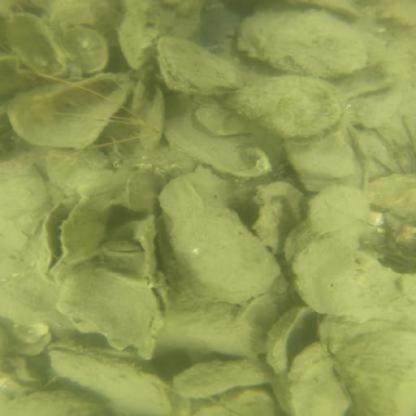3: (41, 199, 114, 281)
Oyster-Closed: (152, 169, 282, 304), (41, 343, 172, 416), (219, 75, 344, 139), (157, 34, 243, 96), (170, 358, 284, 400), (138, 88, 167, 154)
Oyster-Open: (291, 237, 416, 326), (231, 4, 372, 78), (317, 318, 390, 416)
